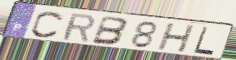8: (131, 21, 159, 49)
B: (90, 15, 130, 46)
C: (30, 10, 66, 39)
H: (156, 23, 196, 54)
L: (192, 26, 216, 57)
R: (61, 12, 96, 44)
